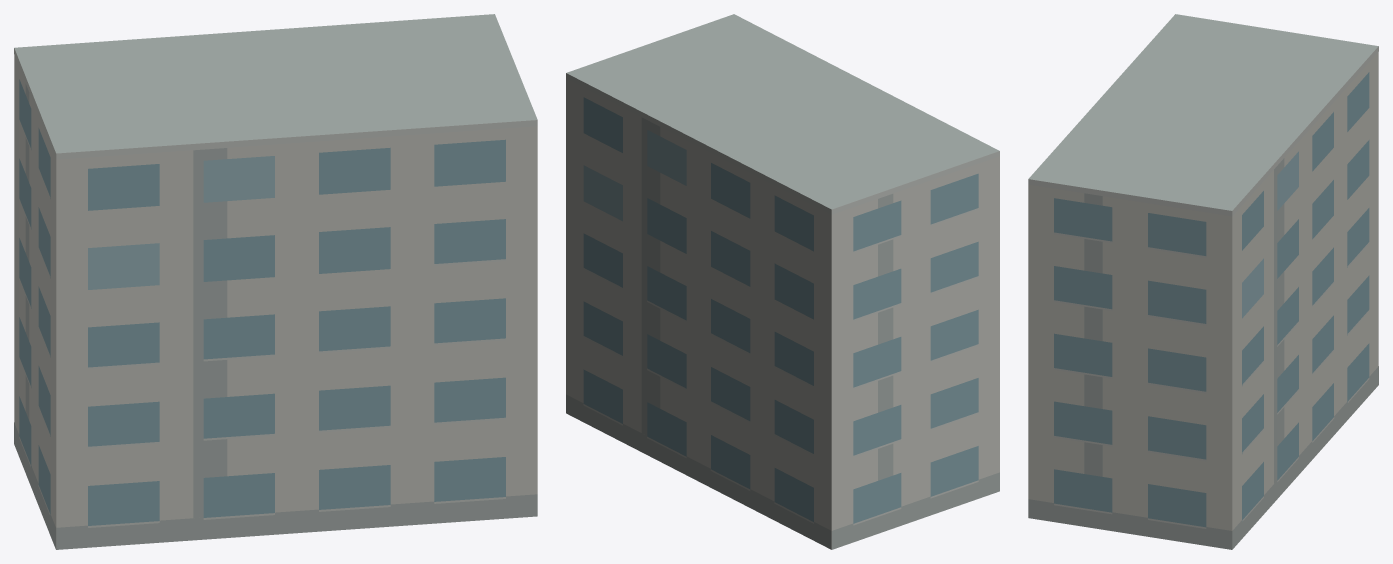
Rendered from survey-upis-32527785.glb.
3 views of the same model, side by side, from view 1: azimuth 30°, elevation 25°; view 2: azimuth 150°, elevation 25°; view 3: azimuth 270°, elevation 25° (orthographic). The views are drawn at different scales.
Parts seen in each view (by area): view 1: survey-upis-32527785.tmp; view 2: survey-upis-32527785.tmp; view 3: survey-upis-32527785.tmp.
Boxes of the visible parts, x1,y1,x2,y2 form: survey-upis-32527785.tmp: [14, 14, 537, 549]; survey-upis-32527785.tmp: [566, 14, 999, 549]; survey-upis-32527785.tmp: [1028, 14, 1378, 549].
Bounding box in the file's own units: 19.01 × 15.25 × 14.3.
